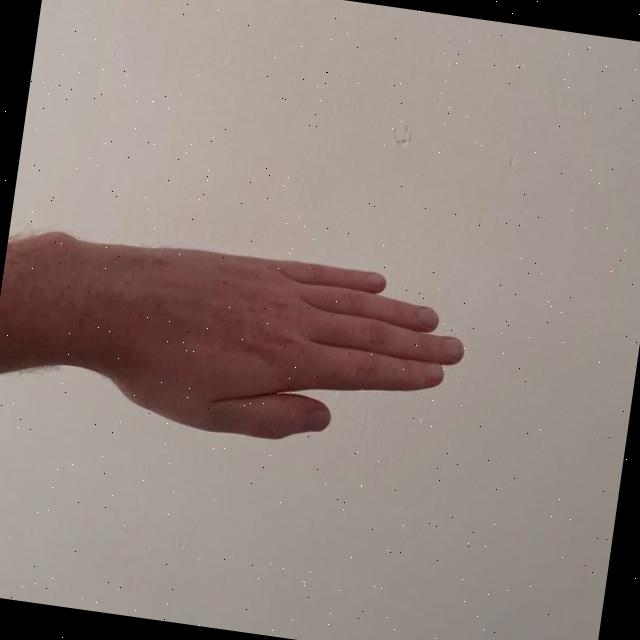papper: (35, 224, 482, 468)
